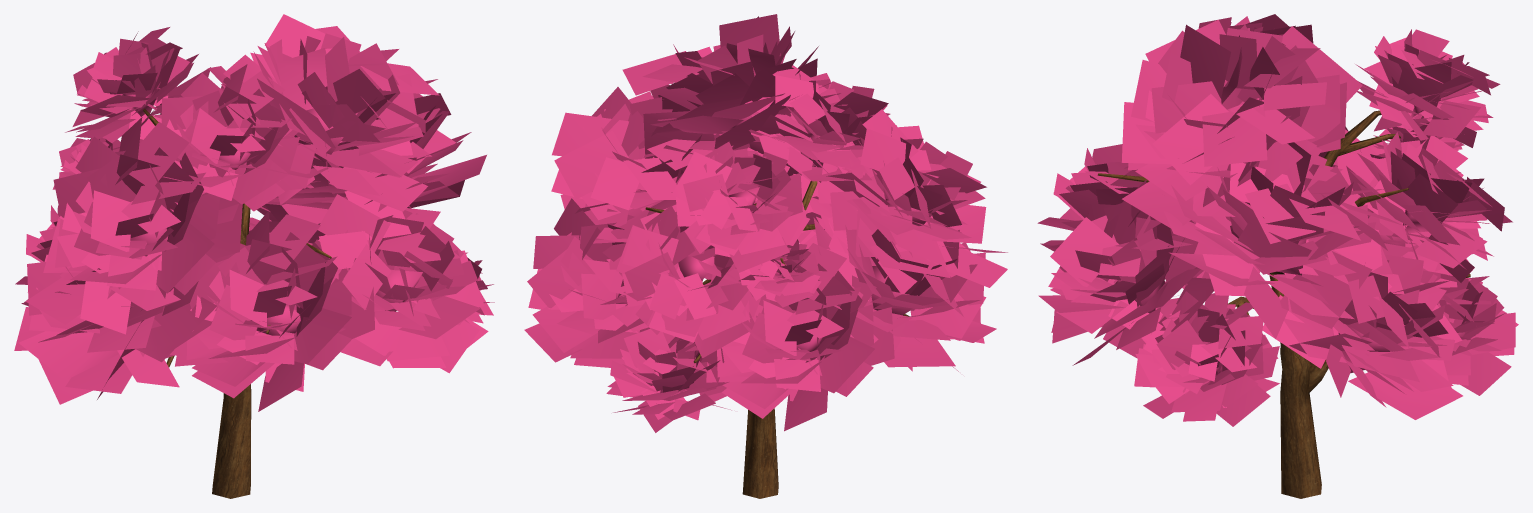
The model's file is TreeLOD_2.fbx.
3 views of the same model, side by side, from view 1: azimuth 30°, elevation 25°; view 2: azimuth 150°, elevation 25°; view 3: azimuth 270°, elevation 25° (orthographic). The views are drawn at different scales.
Visible parts, largest first — view 1: TreeLOD_2_foliage, TreeLOD_2_trunk; view 2: TreeLOD_2_foliage, TreeLOD_2_trunk; view 3: TreeLOD_2_foliage, TreeLOD_2_trunk.
Boxes of the visible parts, x1=… form: TreeLOD_2_foliage: x1=14, y1=14, x2=494, y2=411; TreeLOD_2_trunk: x1=143, y1=108, x2=331, y2=498; TreeLOD_2_foliage: x1=524, y1=14, x2=1007, y2=432; TreeLOD_2_trunk: x1=645, y1=181, x2=909, y2=498; TreeLOD_2_foliage: x1=1037, y1=14, x2=1518, y2=426; TreeLOD_2_trunk: x1=1097, y1=110, x2=1470, y2=498.
Bounding box in the file's own units: 4.88 × 4.82 × 4.35.
